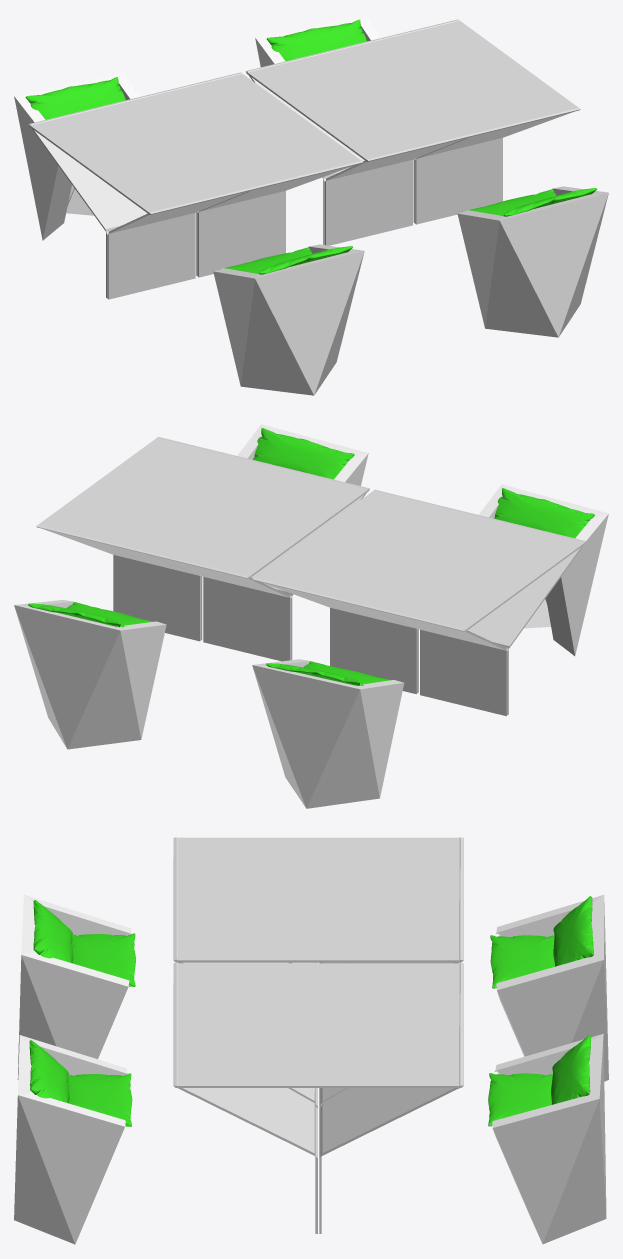
Rendered from Chairs.glb.
3 renders of one model, top to bottom at view 1: azimuth 30°, elevation 25°; view 2: azimuth 150°, elevation 25°; view 3: azimuth 270°, elevation 25°, orthographic. The views are drawn at different scales.
Visible parts, largest first — view 1: DesignTransform6, DesignTransform6.001, chaise_salle_de_r_union_ARD_D2-node.002, chaise_salle_de_r_union_ARD_D2-node.001, chaise_salle_de_r_union_ARD_D2-node.003, Cube.005, Cube.025, chaise_salle_de_r_union_ARD_D2-node.012, Cube.002, Cube.004, Cube.003, Cube.001; view 2: DesignTransform6, DesignTransform6.001, chaise_salle_de_r_union_ARD_D2-node.003, chaise_salle_de_r_union_ARD_D2-node.012, chaise_salle_de_r_union_ARD_D2-node.002, Cube.001, Cube.003, chaise_salle_de_r_union_ARD_D2-node.001, Cube.005, Cube.025, Cube.024, Cube.006; view 3: DesignTransform6.001, DesignTransform6, chaise_salle_de_r_union_ARD_D2-node.012, chaise_salle_de_r_union_ARD_D2-node.001, chaise_salle_de_r_union_ARD_D2-node.002, chaise_salle_de_r_union_ARD_D2-node.003, Cube.006, Cube.024, Cube.004, Cube.002, Cube.005, Cube.025 (+2 smaller).
Boxes of the visible parts, x1,y1,x2,y2 form: DesignTransform6: (28, 72, 363, 299); DesignTransform6.001: (245, 19, 580, 245); chaise_salle_de_r_union_ARD_D2-node.002: (213, 244, 364, 395); chaise_salle_de_r_union_ARD_D2-node.001: (457, 186, 608, 337); chaise_salle_de_r_union_ARD_D2-node.003: (14, 71, 140, 240); Cube.005: (25, 77, 125, 119); Cube.025: (266, 19, 366, 61); chaise_salle_de_r_union_ARD_D2-node.012: (255, 14, 380, 67); Cube.002: (462, 189, 556, 215); Cube.004: (218, 247, 312, 273); Cube.003: (259, 246, 352, 274); Cube.001: (503, 188, 597, 216); DesignTransform6: (252, 489, 586, 716); DesignTransform6.001: (36, 437, 369, 661); chaise_salle_de_r_union_ARD_D2-node.003: (252, 659, 404, 808); chaise_salle_de_r_union_ARD_D2-node.012: (14, 600, 166, 749); chaise_salle_de_r_union_ARD_D2-node.002: (479, 484, 608, 655); Cube.001: (253, 428, 354, 479); Cube.003: (494, 488, 594, 538); chaise_salle_de_r_union_ARD_D2-node.001: (237, 424, 368, 485); Cube.005: (266, 663, 363, 685); Cube.025: (28, 603, 124, 627); Cube.024: (67, 602, 152, 625); Cube.006: (303, 661, 390, 684); DesignTransform6.001: (173, 963, 463, 1233); DesignTransform6: (173, 837, 463, 1105); chaise_salle_de_r_union_ARD_D2-node.012: (492, 1033, 606, 1244); chaise_salle_de_r_union_ARD_D2-node.001: (14, 1035, 127, 1244); chaise_salle_de_r_union_ARD_D2-node.002: (17, 895, 131, 1079); chaise_salle_de_r_union_ARD_D2-node.003: (496, 895, 608, 1081); Cube.006: (490, 935, 554, 988); Cube.024: (488, 1073, 552, 1126); Cube.004: (72, 933, 135, 986); Cube.002: (68, 1073, 132, 1126); Cube.005: (553, 896, 593, 966); Cube.025: (551, 1035, 591, 1104).
Bounding box in the file's own units: 20.61 × 7.23 × 20.88.
